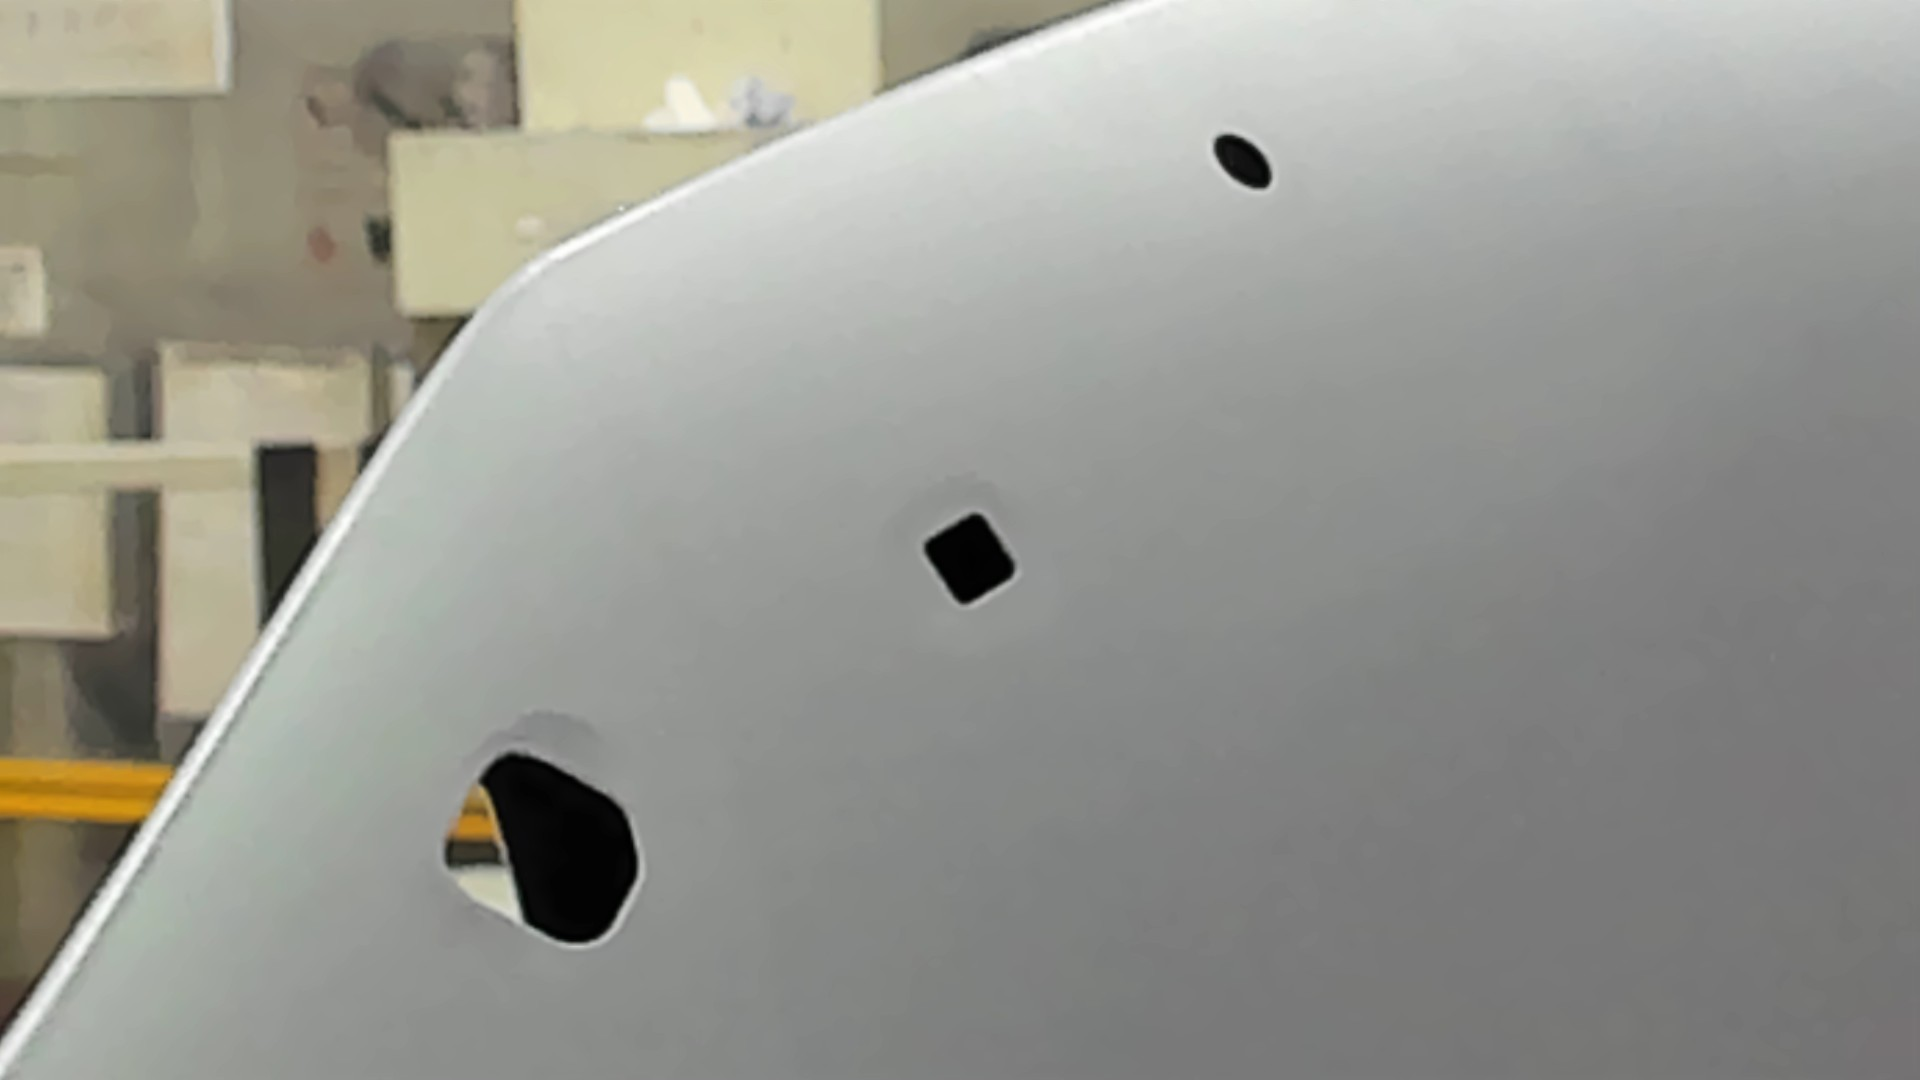chico: (1211, 131, 1275, 193)
grande: (440, 749, 646, 953)
mediano: (920, 508, 1022, 607)
